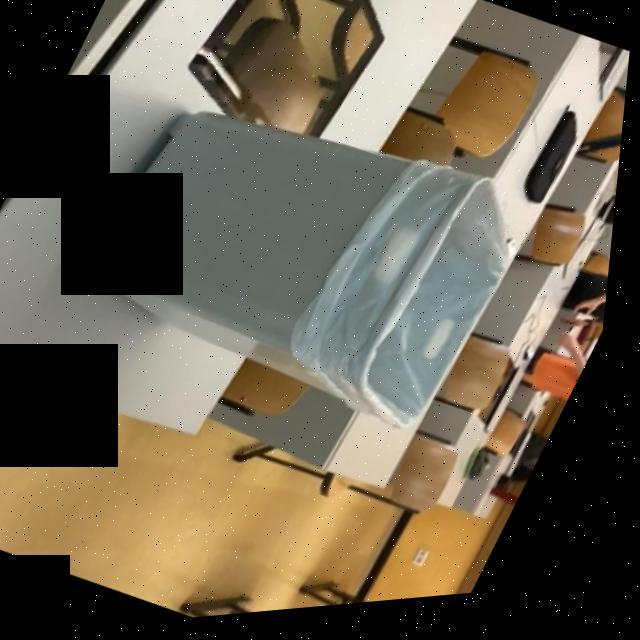bin: (21, 10, 605, 500)
